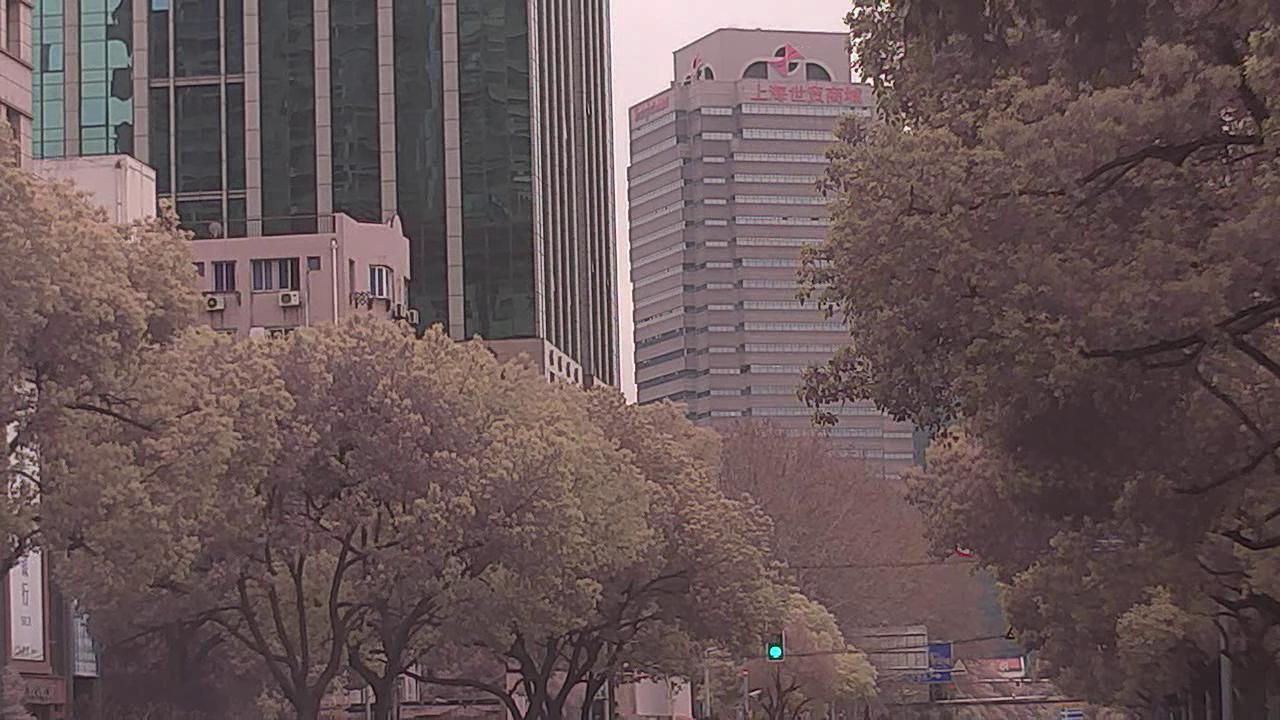traffic_light: (768, 626, 785, 664)
